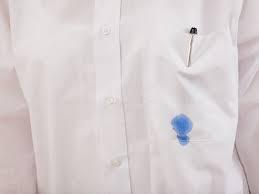ink: (172, 113, 192, 147)
